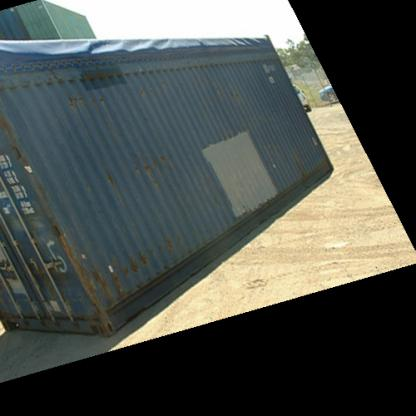Damage: (114, 244, 159, 303), (84, 263, 112, 309), (134, 146, 176, 176), (57, 88, 108, 107), (99, 167, 121, 195)
